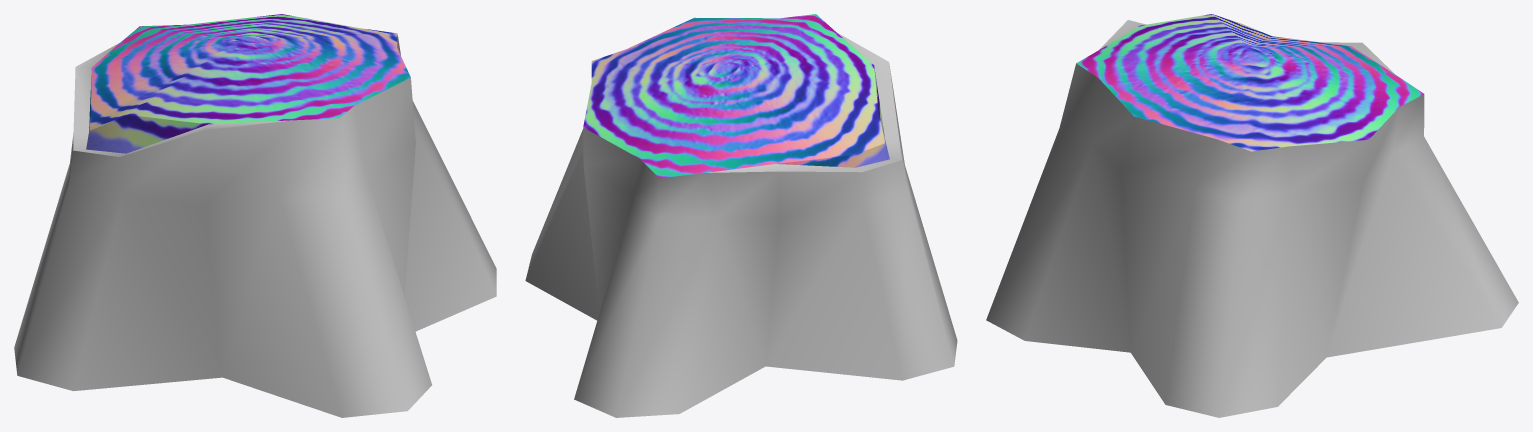
The model's file is sm_tree_03_stump.fbx.
The picture shows the model from 3 angles, left to right: view 1: azimuth 30°, elevation 25°; view 2: azimuth 150°, elevation 25°; view 3: azimuth 270°, elevation 25°; orthographic projection. The views are drawn at different scales.
Parts seen in each view (by area): view 1: sm_tree_03_stump; view 2: sm_tree_03_stump; view 3: sm_tree_03_stump.
Part boxes in pixels (x1,y1,x2,y2): sm_tree_03_stump: (14,14,496,417); sm_tree_03_stump: (525,14,957,417); sm_tree_03_stump: (986,14,1518,417).
Size of the model in its own units: 177 by 99.13 by 184.
